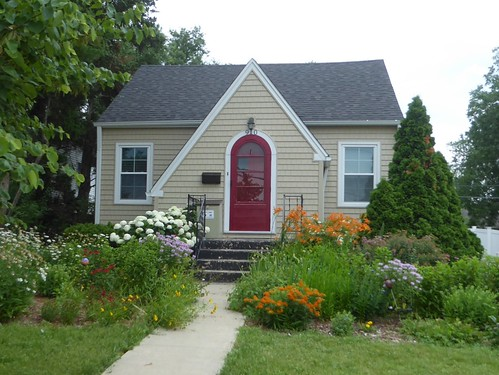low: (90, 55, 410, 280)
